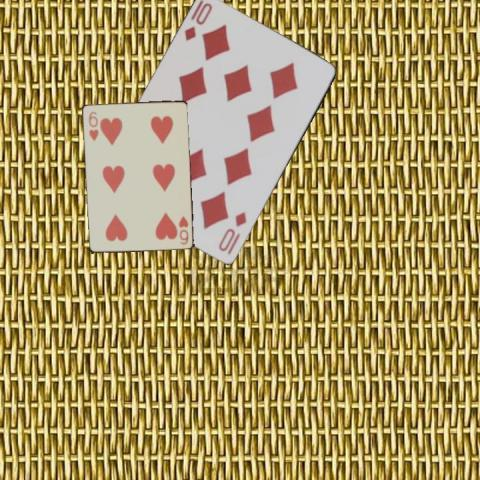10d: (215, 210, 248, 253), (181, 0, 214, 43)
6h: (86, 109, 100, 142), (176, 213, 190, 246)
